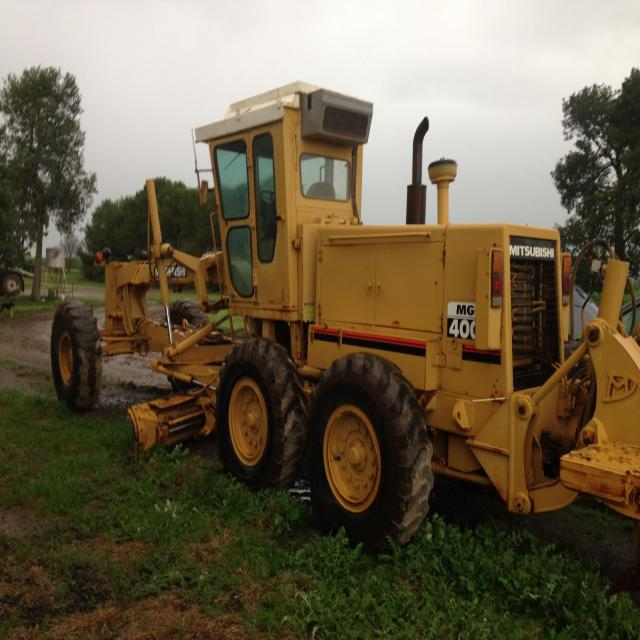Grader: (33, 58, 640, 574)
